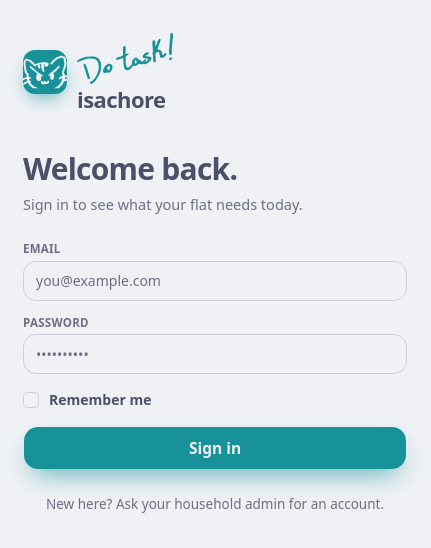
Test case: Login › shows the API error message on a failed login
Step 1. Type "a@example.com" into the field labelled "Email" → (215, 281), box left=23, top=261, right=407, bottom=301
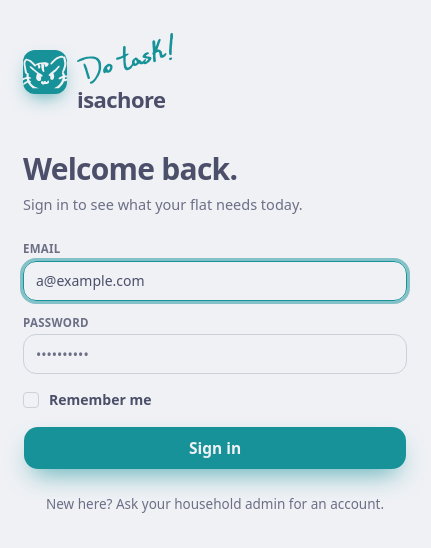
Step 2. Type "wrong-password" into the password field labelled "Password" → (215, 354), box left=23, top=334, right=407, bottom=374
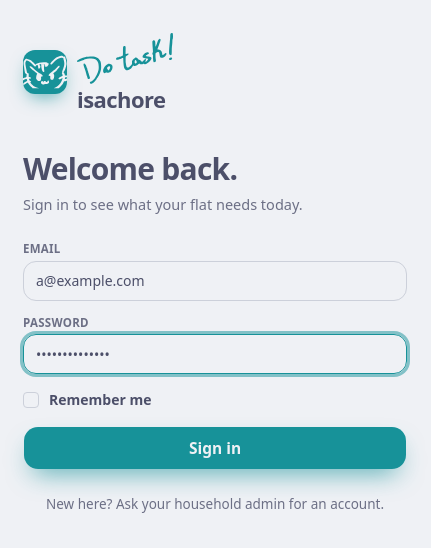
Step 3. Click the button "Sign in" → (215, 448), box left=23, top=426, right=407, bottom=470
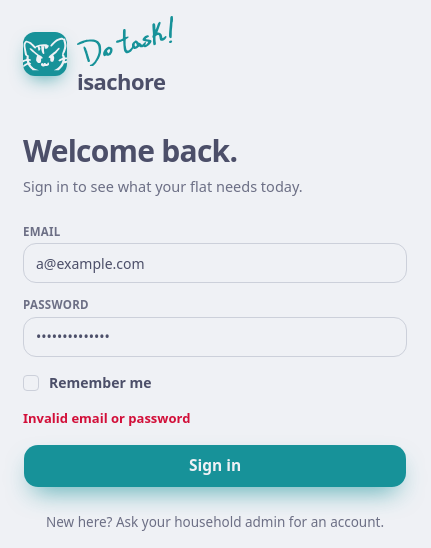
Check: the text "Invalid email or password" is shown, box left=23, top=409, right=190, bottom=427
